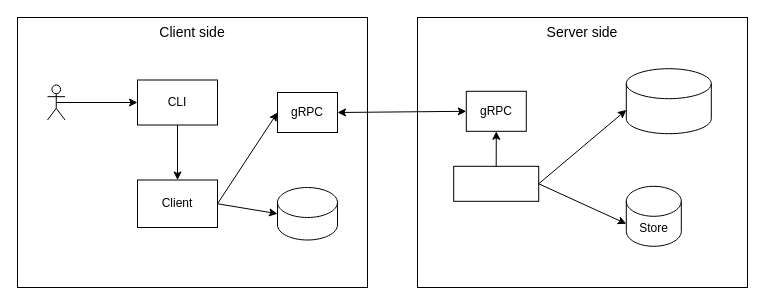
This 765x305 diagram has some shape labels left out. Each missing label, with the centre of its shape:
"Keys" belongs at pixel 307 213.
"Local Filesystem" belongs at pixel 668 101.
"Server" belongs at pixel 496 183.
"User" belongs at pixel 55 102.
